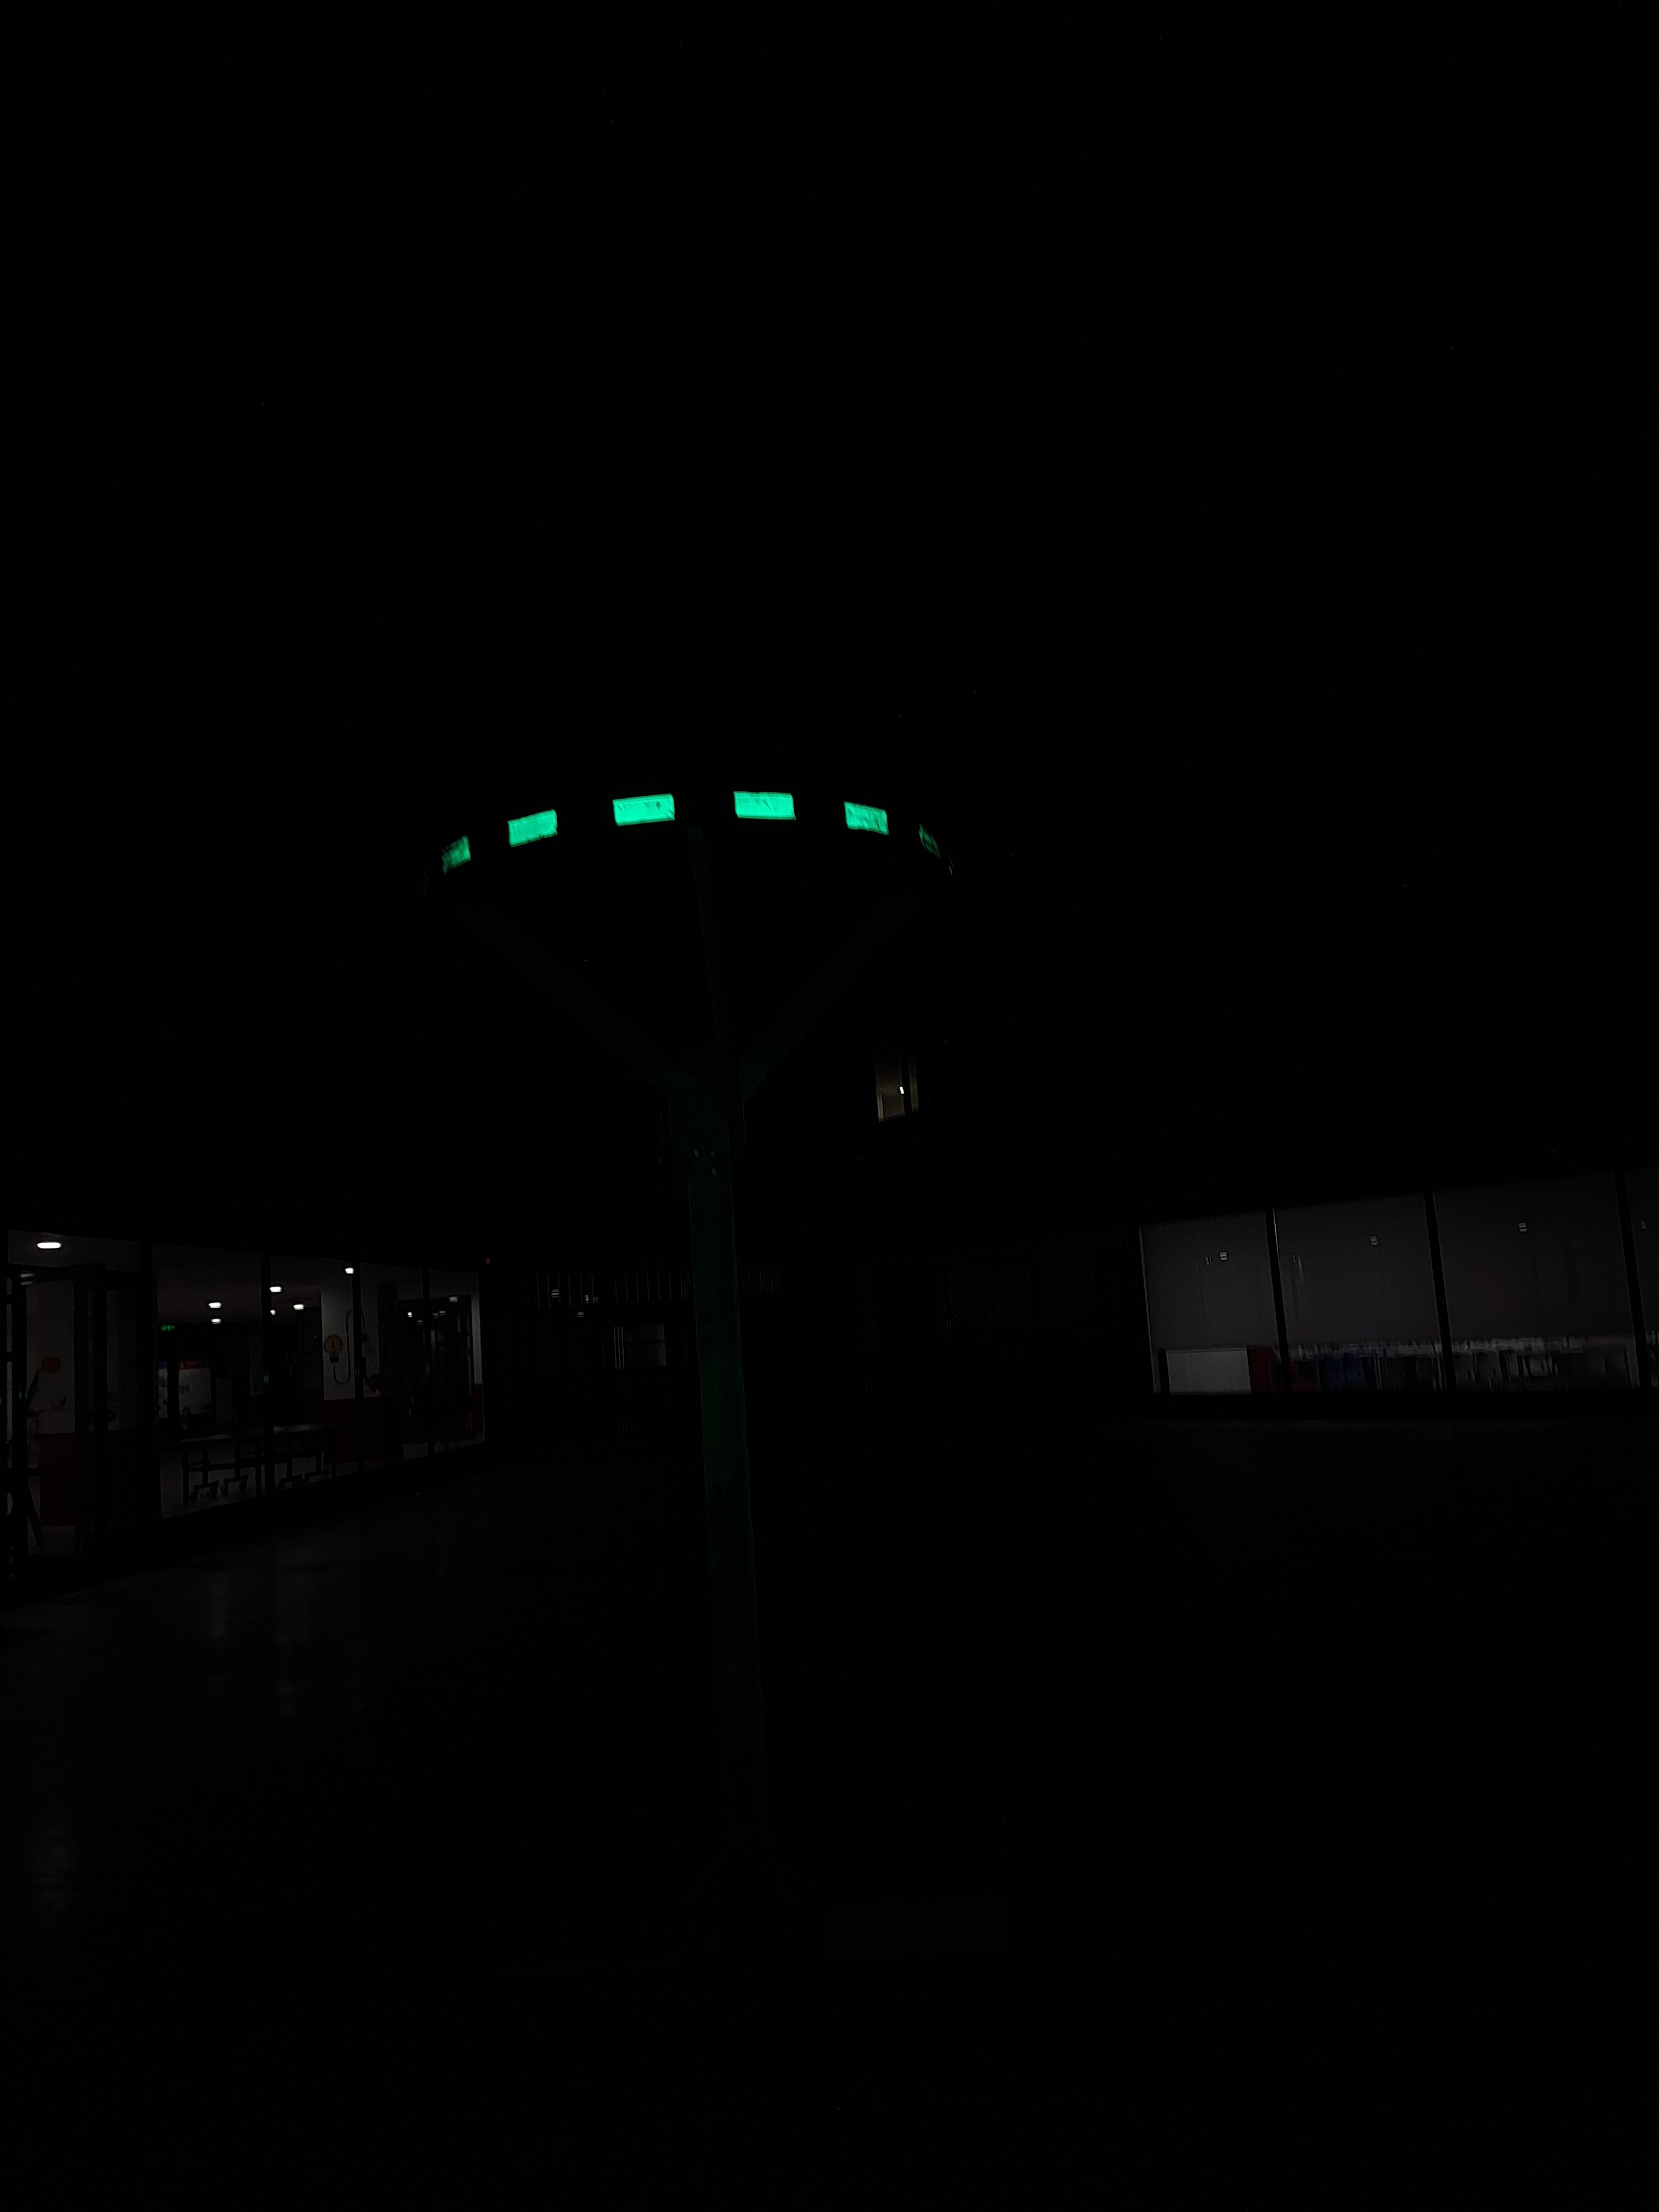hoop: (436, 770, 897, 880)
